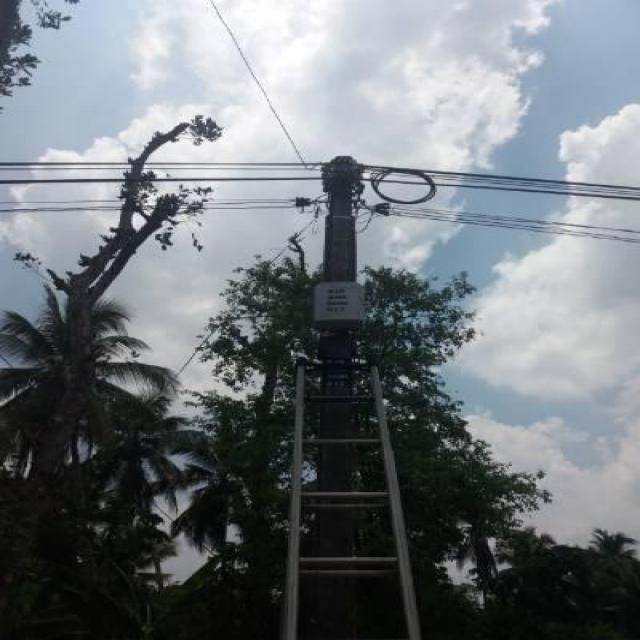light_pole: (309, 151, 366, 634)
